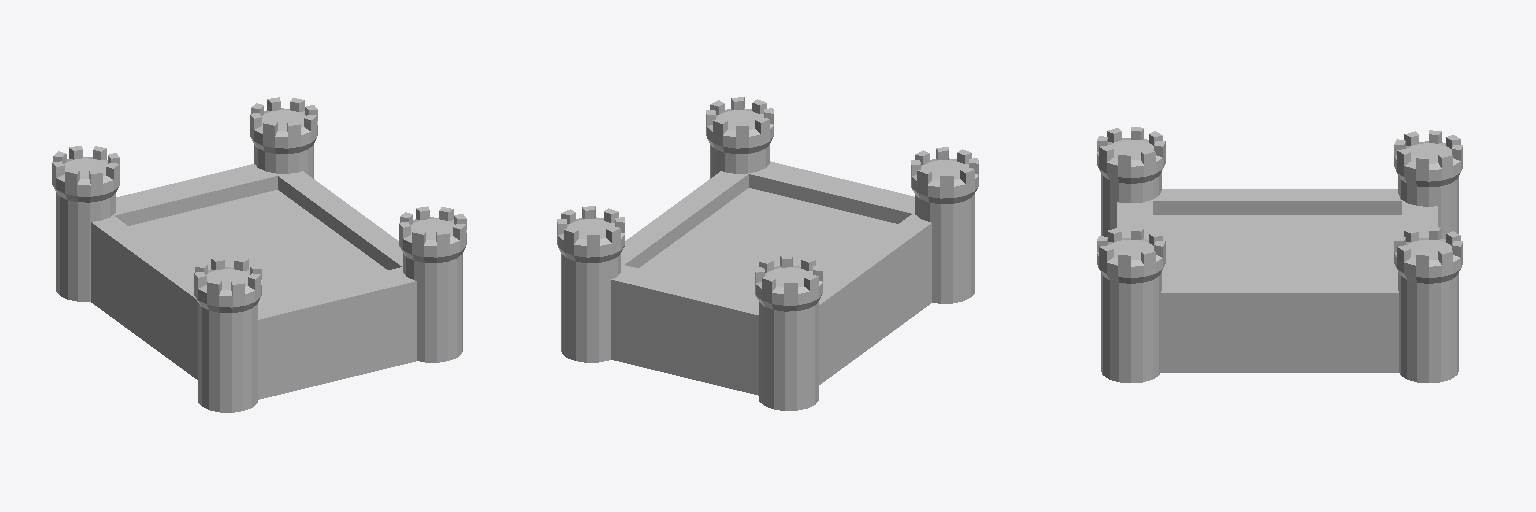
File: castle.obj
3 renders of one model, left to right at view 1: azimuth 30°, elevation 25°; view 2: azimuth 150°, elevation 25°; view 3: azimuth 270°, elevation 25°, orthographic.
Visible parts, largest first — view 1: Main, Tower4, Tower2, Tower1, Tower3; view 2: Main, Tower1, Tower3, Tower4, Tower2; view 3: Main, Tower3, Tower2, Tower1, Tower4.
Boxes of the visible parts, x1=… form: Main: x1=91, y1=164, x2=416, y2=399; Tower4: x1=194, y1=256, x2=261, y2=412; Tower2: x1=399, y1=206, x2=466, y2=362; Tower1: x1=52, y1=146, x2=119, y2=301; Tower3: x1=250, y1=97, x2=317, y2=178; Main: x1=611, y1=161, x2=931, y2=395; Tower1: x1=755, y1=255, x2=822, y2=410; Tower3: x1=557, y1=206, x2=624, y2=362; Tower4: x1=911, y1=147, x2=978, y2=303; Tower2: x1=706, y1=97, x2=773, y2=178; Main: x1=1117, y1=189, x2=1437, y2=372; Tower3: x1=1394, y1=227, x2=1462, y2=382; Tower2: x1=1097, y1=227, x2=1165, y2=382; Tower1: x1=1394, y1=130, x2=1462, y2=239; Tower4: x1=1097, y1=127, x2=1165, y2=236.
Bounding box in the file's own units: 10.01 × 4.69 × 12.02.